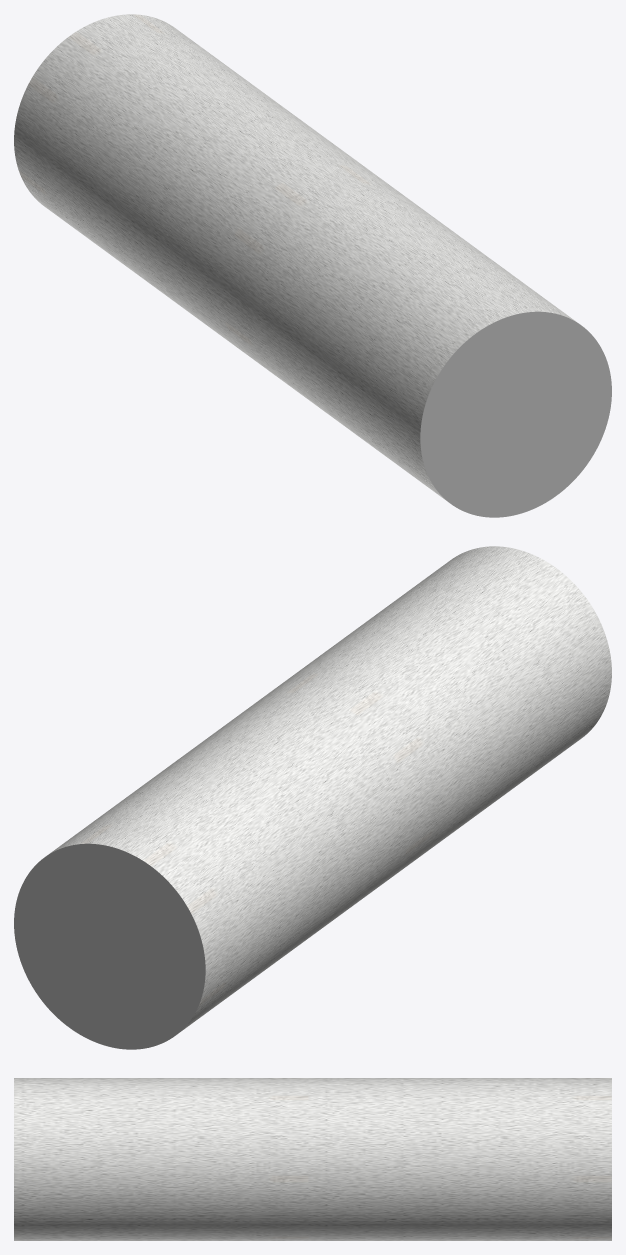
Rendered from body.obj.
3 views of the same model, one above another, from view 1: azimuth 30°, elevation 25°; view 2: azimuth 150°, elevation 25°; view 3: azimuth 270°, elevation 25° (orthographic). The views are drawn at different scales.
Parts seen in each view (by area): view 1: Object.1; view 2: Object.1; view 3: Object.1.
Part boxes in pixels (left/top/right/bottom): Object.1: left=14, top=14, right=611, bottom=517; Object.1: left=14, top=546, right=611, bottom=1049; Object.1: left=14, top=1078, right=611, bottom=1240.
Size of the model in its own units: 45.72 by 45.72 by 168.
Materials: 2 (1 with a texture image).
